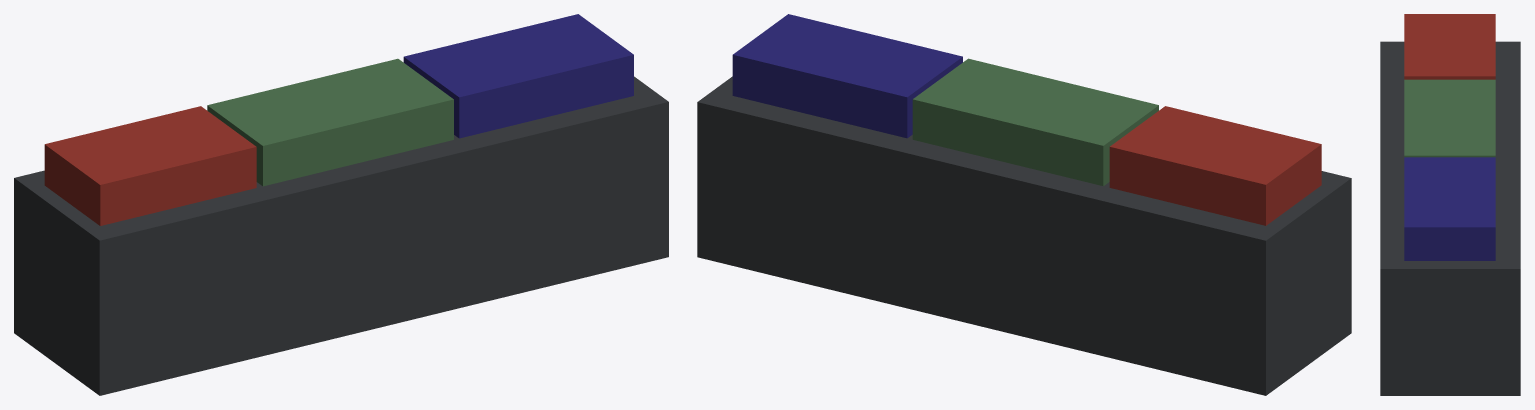
The model's file is buton3.fbx.
3 views of the same model, side by side, from view 1: azimuth 30°, elevation 25°; view 2: azimuth 150°, elevation 25°; view 3: azimuth 270°, elevation 25° (orthographic). The views are drawn at different scales.
Visible parts, largest first — view 1: SM_Prop_Button_04, SM_Prop_Button_01.007, SM_Prop_Button_01.008, SM_Prop_Button_01.009; view 2: SM_Prop_Button_04, SM_Prop_Button_01.007, SM_Prop_Button_01.008, SM_Prop_Button_01.009; view 3: SM_Prop_Button_04, SM_Prop_Button_01.009, SM_Prop_Button_01.007, SM_Prop_Button_01.008.
Part boxes in pixels (x1,y1,x2,y2): SM_Prop_Button_04: (14,76,668,395); SM_Prop_Button_01.007: (207,58,453,186); SM_Prop_Button_01.008: (44,106,256,225); SM_Prop_Button_01.009: (403,14,633,138); SM_Prop_Button_04: (697,76,1351,395); SM_Prop_Button_01.007: (912,58,1158,186); SM_Prop_Button_01.008: (1109,106,1321,225); SM_Prop_Button_01.009: (732,14,962,138); SM_Prop_Button_04: (1380,41,1520,395); SM_Prop_Button_01.009: (1404,157,1495,260); SM_Prop_Button_01.007: (1404,79,1495,157); SM_Prop_Button_01.008: (1404,14,1495,79).
Size of the model in its own units: 47.8 by 15.77 by 12.47.
